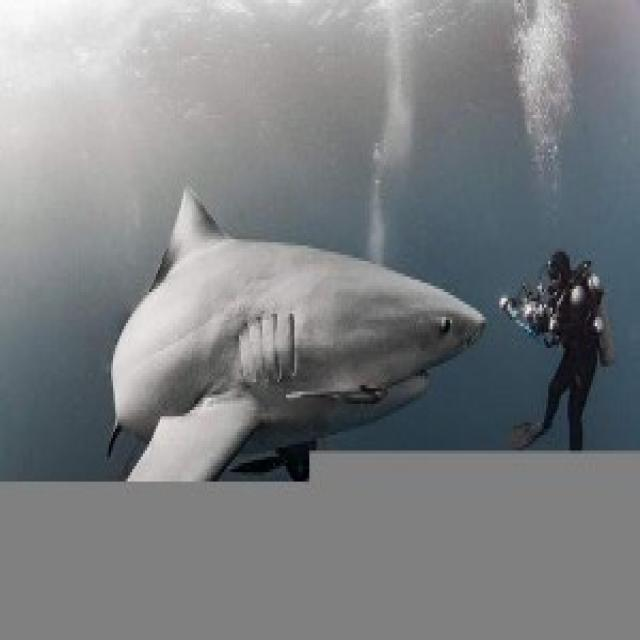Shark: (86, 174, 480, 476)
